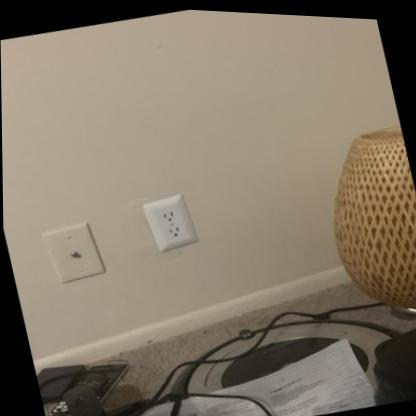OUTLET: (145, 191, 197, 252)
